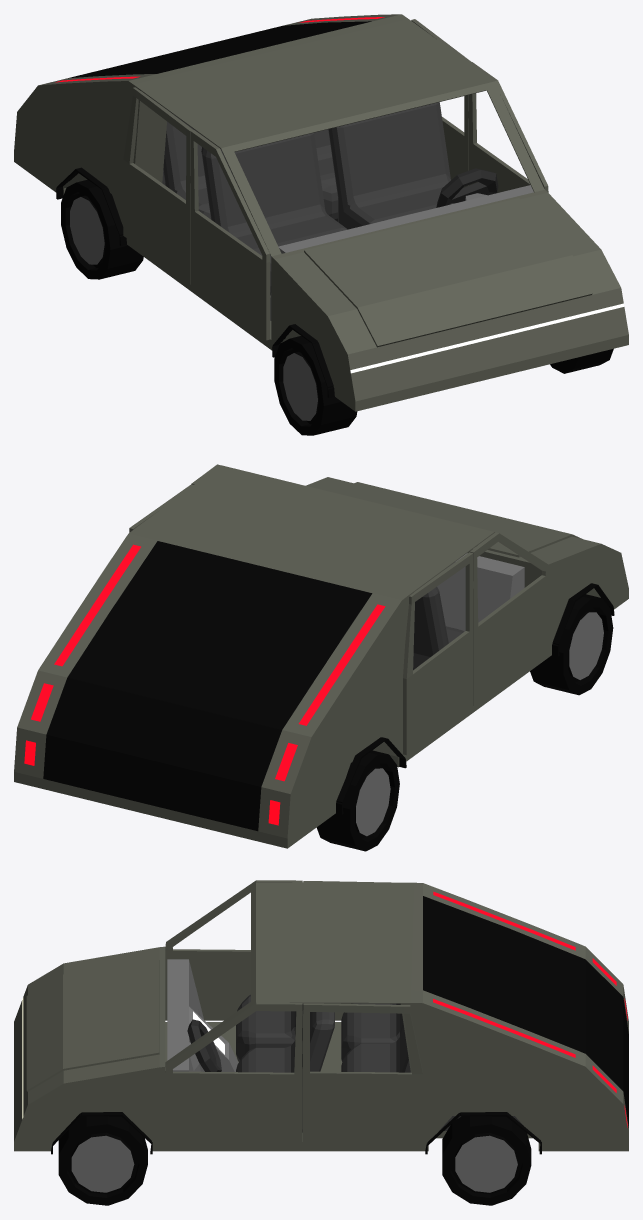
File: car.glb
3 views of the same model, one above another, from view 1: azimuth 30°, elevation 25°; view 2: azimuth 150°, elevation 25°; view 3: azimuth 270°, elevation 25° (orthographic). The views are drawn at different scales.
Parts seen in each view (by area): view 1: Body, Roof, Bonnet, seat, seat.001, RF_Door, RR_Door, Wheel.002, Wheel.003, Trunk, LF_Door, Dashboard (+7 smaller); view 2: Trunk, Body, Roof, RR_Door, RF_Door, Wheel.002, Wheel.003, Bonnet, Dashboard, seat.001, Wheel Guards.001, Wheel Guards.003; view 3: Body, Roof, Trunk, Bonnet, LF_Door, LR_Door, Wheel.001, Wheel, RF_Door, Dashboard, seat, seat.001 (+5 smaller).
Boxes of the visible parts, x1,y1,x2,y2 form: Body: (14,14,628,411); Roof: (134,19,544,256); Bonnet: (304,198,592,347); seat: (328,102,454,229); seat.001: (201,133,347,295); RF_Door: (190,130,270,340); RR_Door: (123,87,192,284); Wheel.002: (61,179,143,279); Wheel.003: (274,336,357,435); Trunk: (68,21,371,78); LF_Door: (468,62,548,192); Dashboard: (270,185,533,320); Trunk: (43,541,372,831); Body: (14,477,628,848); Roof: (135,465,494,596); RR_Door: (403,552,473,755); RF_Door: (470,532,549,705); Wheel.002: (316,750,399,851); Wheel.003: (530,594,613,695); Bonnet: (332,482,581,557); Dashboard: (437,553,524,631); seat.001: (413,587,464,670); Wheel Guards.001: (336,737,406,814); Wheel Guards.003: (552,583,614,656); Body: (14,882,628,1151); Roof: (165,882,413,1066); Trunk: (423,896,628,1127); Bonnet: (26,958,159,1091); LF_Door: (165,1002,302,1142); LR_Door: (302,1003,422,1142); Wheel.001: (442,1116,531,1205); Wheel: (58,1116,147,1205); RF_Door: (165,880,302,1020); Dashboard: (167,959,238,1071); seat: (236,1012,334,1132); seat.001: (236,994,303,1061).
Bounding box in the file's own units: 3 × 2.15 × 6.05.
